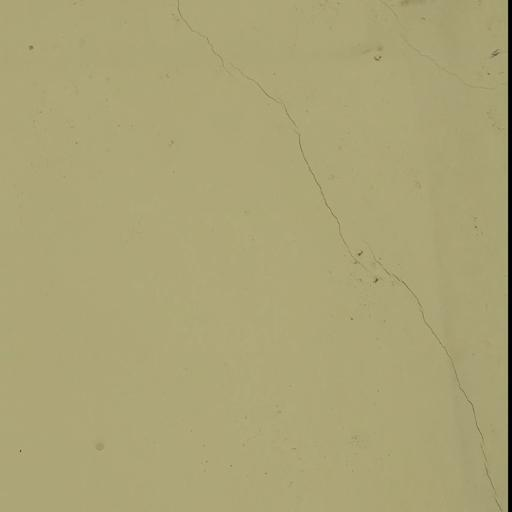minor_crack: (171, 0, 506, 512)
